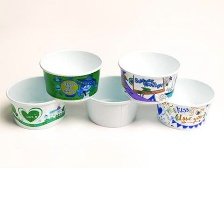paper_cup: (35, 45, 105, 105), (114, 46, 183, 106), (2, 72, 71, 132), (152, 72, 217, 133), (81, 71, 144, 130)
